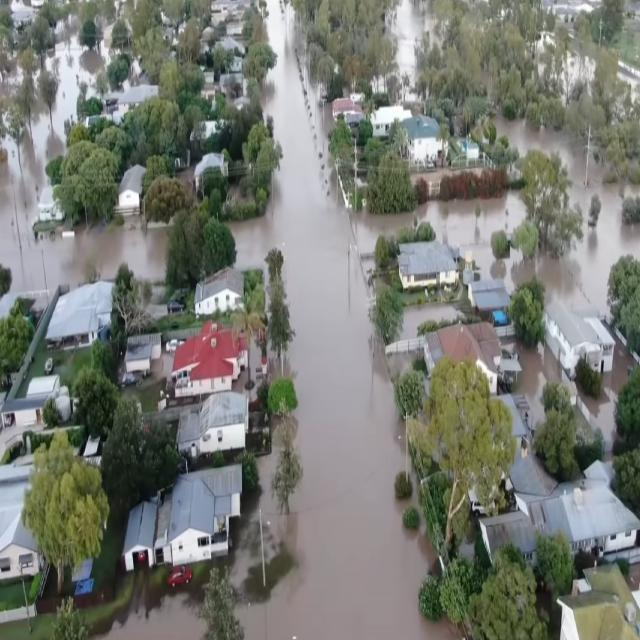flood: (231, 0, 440, 640), (352, 120, 640, 314), (0, 36, 168, 292), (94, 577, 207, 640), (566, 0, 640, 92), (578, 344, 635, 458), (514, 344, 579, 428), (393, 0, 426, 84), (236, 601, 301, 640), (105, 84, 154, 108)
house: (145, 463, 247, 569), (531, 459, 635, 562), (167, 320, 241, 406), (423, 319, 498, 401), (553, 573, 640, 640), (548, 302, 614, 380), (44, 278, 116, 348), (180, 391, 248, 459), (398, 240, 463, 292), (194, 266, 246, 320), (480, 507, 529, 563), (0, 511, 38, 582), (401, 114, 442, 164), (193, 148, 228, 205), (126, 501, 154, 570), (372, 100, 412, 141), (113, 162, 144, 214), (328, 92, 366, 128)
